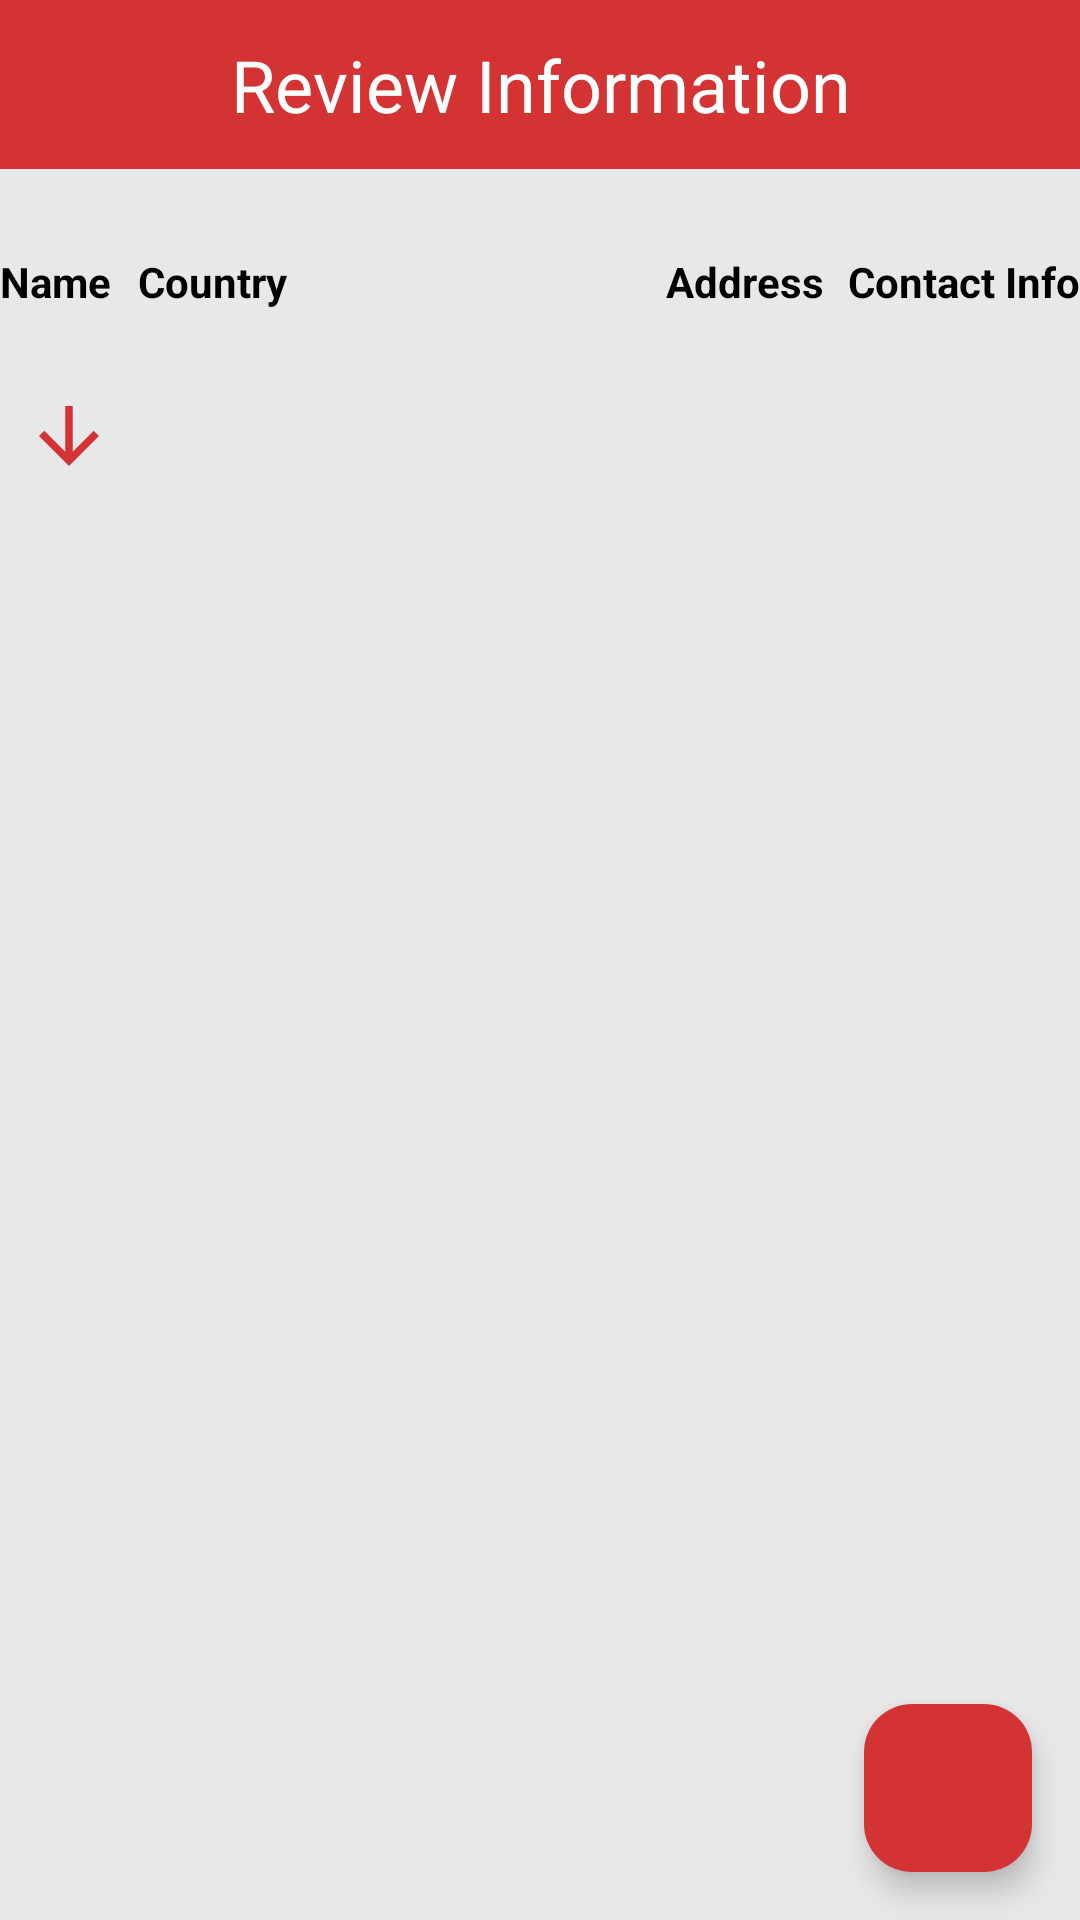

Screen size 1080×1920. Icon name, then its box in pixels as (x1, y1, x2, y2):
arrow downward: (39, 406, 99, 466)
